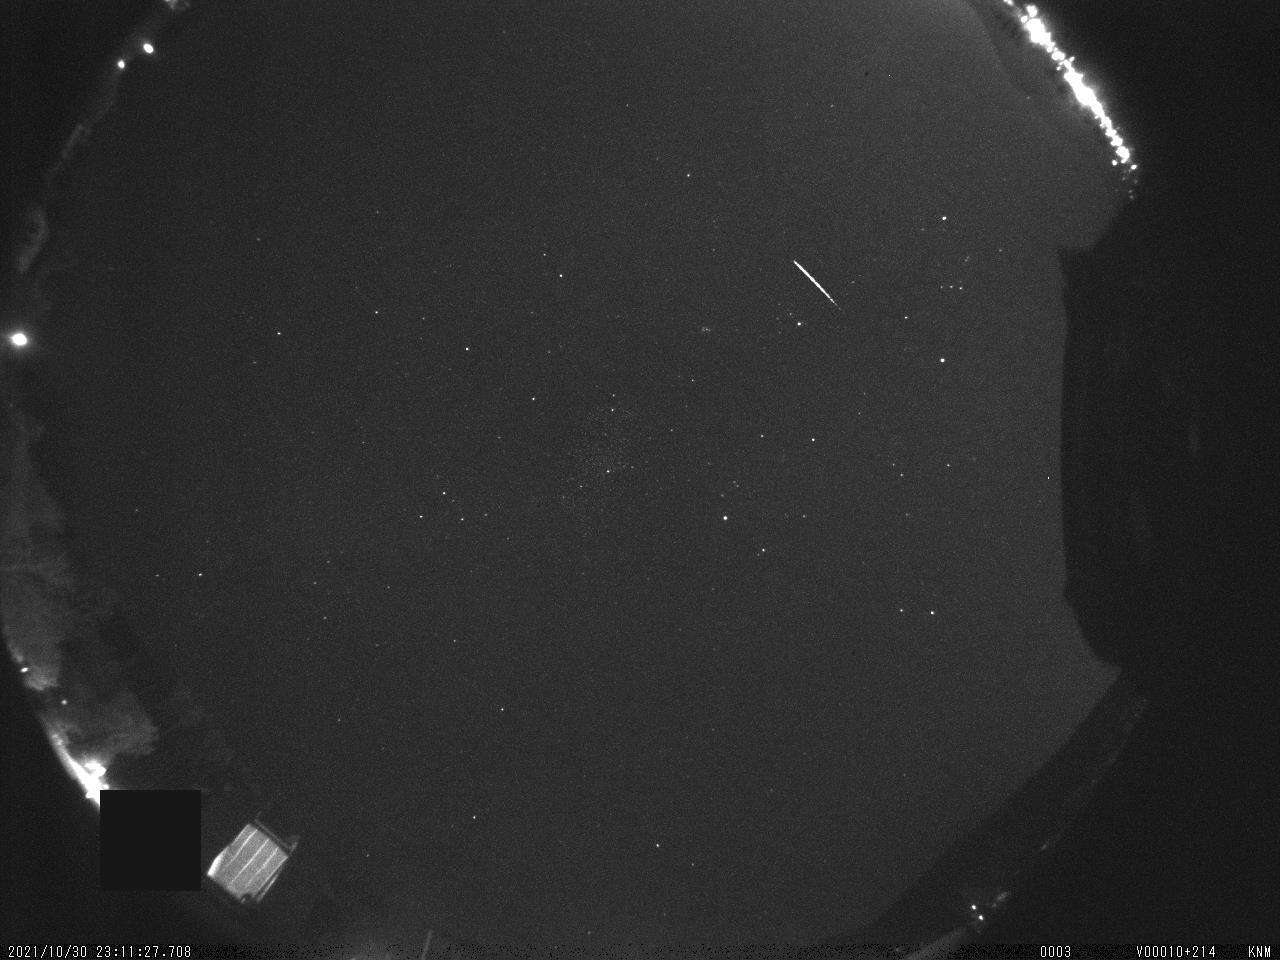meteor: (788, 246, 848, 323)
